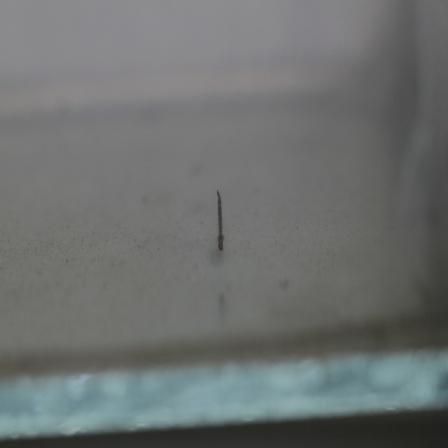Jentik-Nyamuk: (213, 185, 228, 255)
